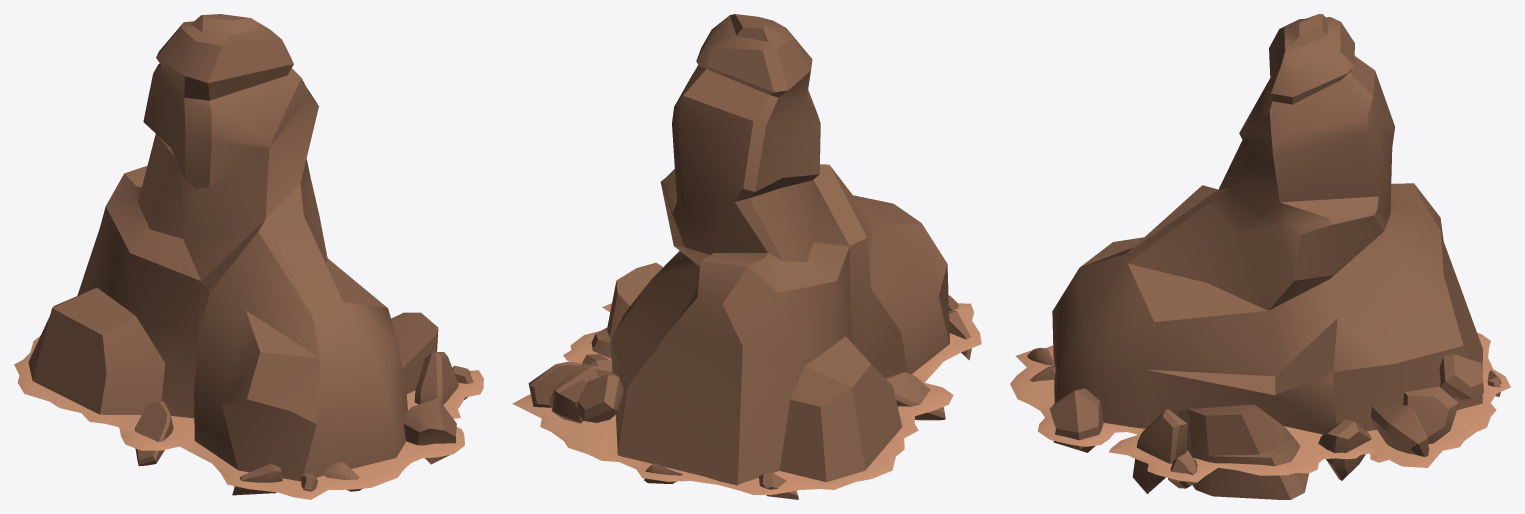
Rendered from Stone.glb.
The picture shows the model from 3 angles, left to right: view 1: azimuth 30°, elevation 25°; view 2: azimuth 150°, elevation 25°; view 3: azimuth 270°, elevation 25°; orthographic projection. The views are drawn at different scales.
Visible parts, largest first — view 1: Column02, Line030; view 2: Column02, Line030; view 3: Column02, Line030.
Part boxes in pixels (x1,y1,x2,y2): Column02: (28,14,473,495); Line030: (14,336,483,499); Column02: (528,14,971,499); Line030: (512,303,981,494); Column02: (1027,14,1501,499); Line030: (1010,332,1510,482).
Size of the model in its own units: 2.39 by 2.52 by 2.83.
